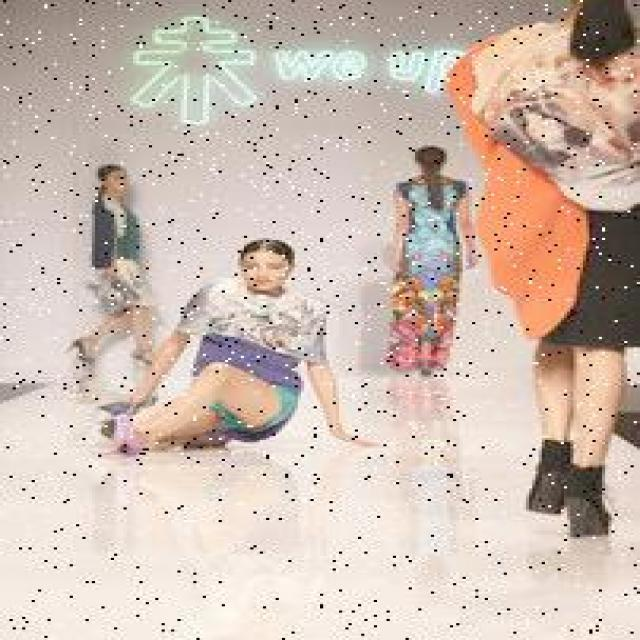fall: (133, 244, 361, 448)
